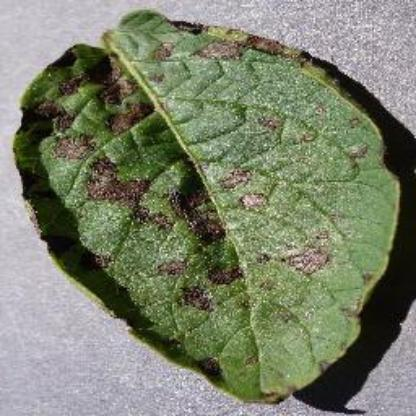Early-Blight: (9, 9, 409, 405)
